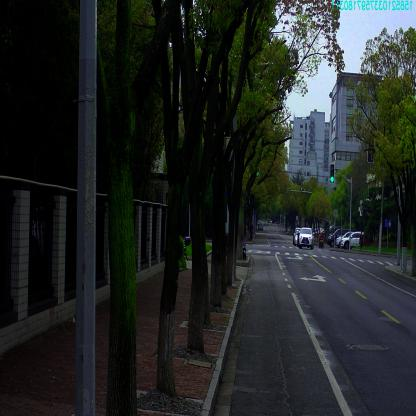traffic-light: (330, 163, 334, 182), (256, 167, 260, 176)
